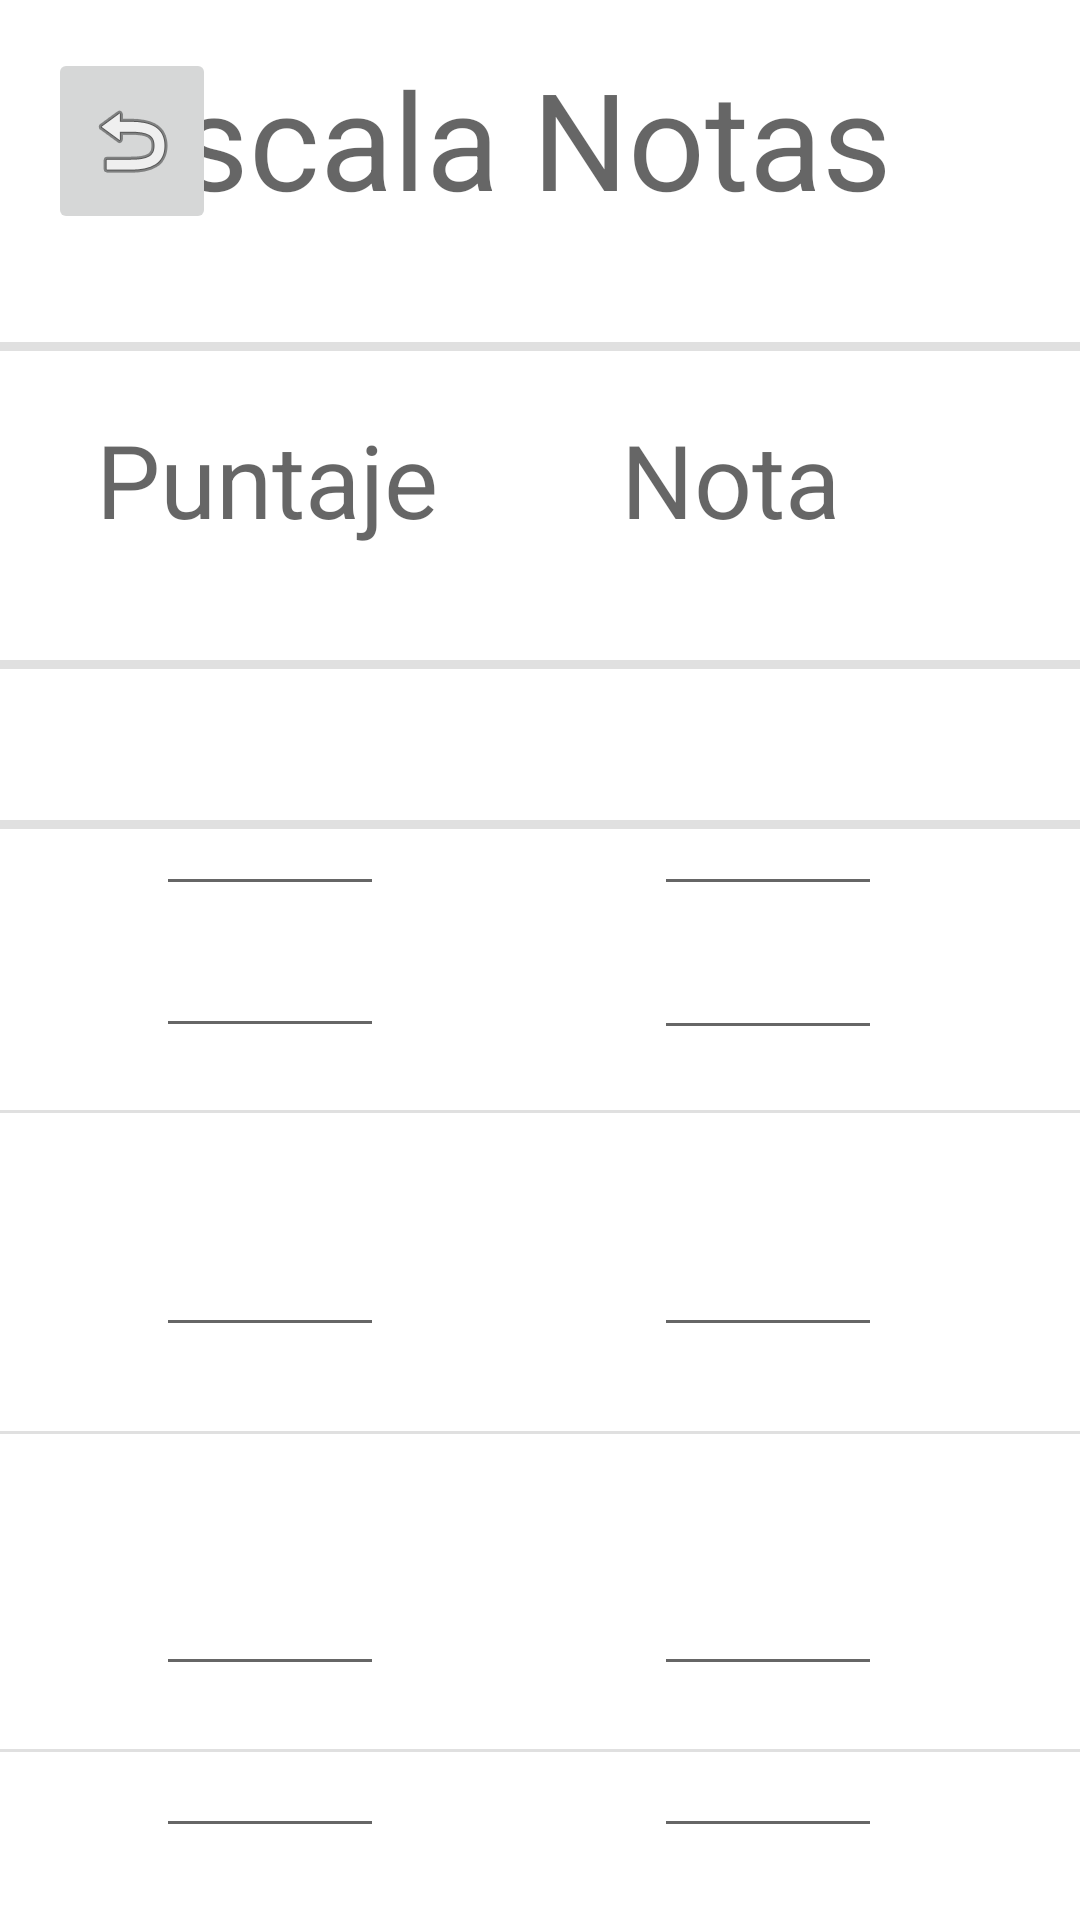

Locate icon controls on the screen. Image size 1080x1920, boxes as rect(x1, y1, x2, y2).
revert: rect(60, 66, 216, 216)
